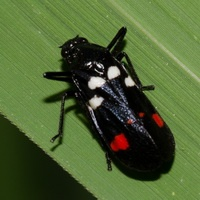insect: (44, 27, 174, 171)
